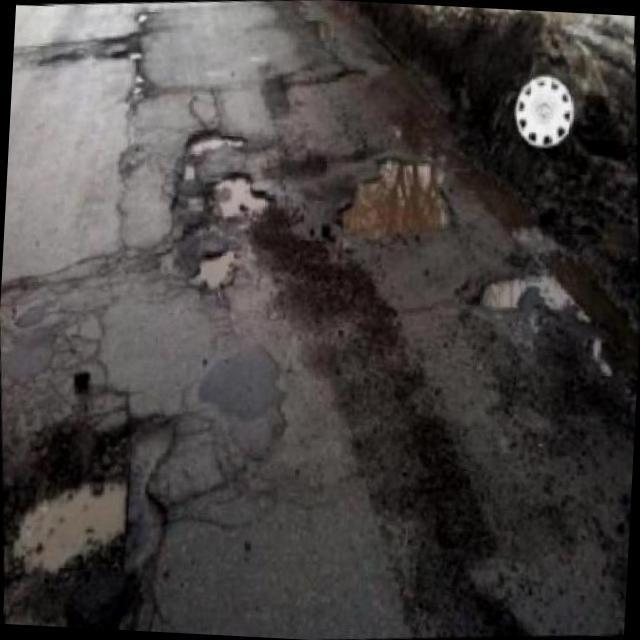Pothole: (1, 372, 144, 631), (334, 157, 459, 252), (472, 277, 575, 311), (214, 176, 268, 220), (188, 251, 237, 291), (184, 130, 245, 157), (182, 167, 194, 180), (189, 199, 200, 209)
